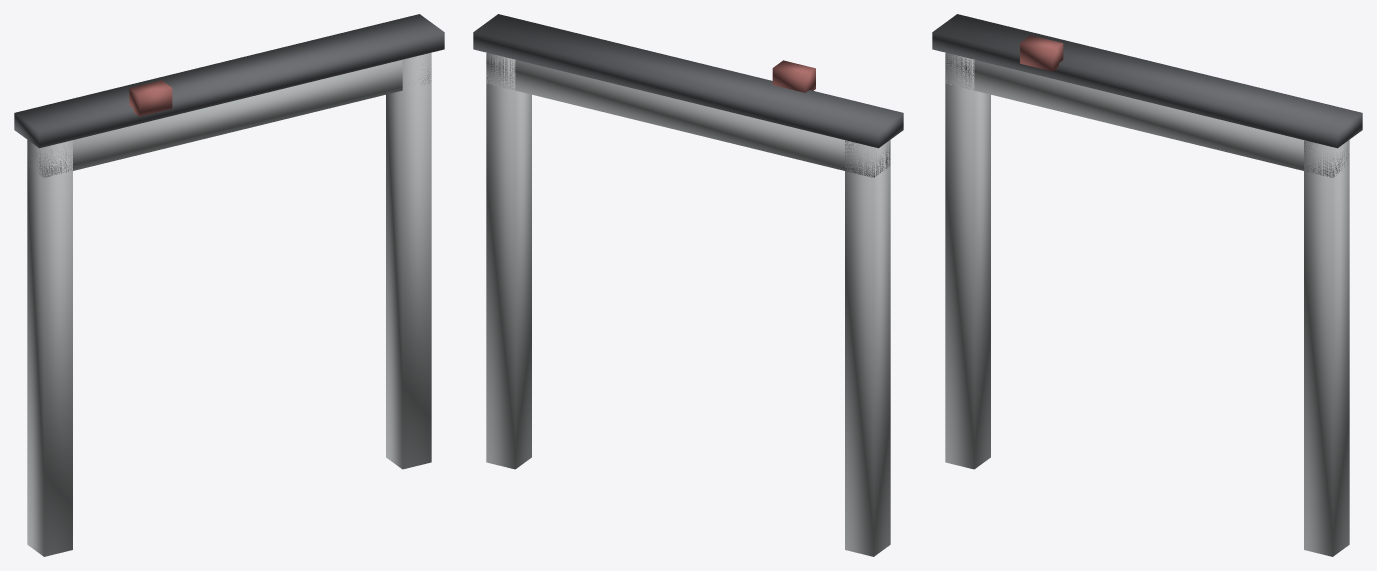
Rendered from doorway_fire_rated_w182_h200_d16.glb.
3 views of the same model, side by side, from view 1: azimuth 30°, elevation 25°; view 2: azimuth 150°, elevation 25°; view 3: azimuth 330°, elevation 25° (orthographic).
Visible parts, largest first — view 1: world; view 2: world; view 3: world.
Part boxes in pixels (x1,y1,x2,y2): world: [14, 14, 444, 556]; world: [473, 14, 903, 556]; world: [932, 14, 1362, 556].
Bounding box in the file's own units: 2.24 × 2.37 × 0.3.
